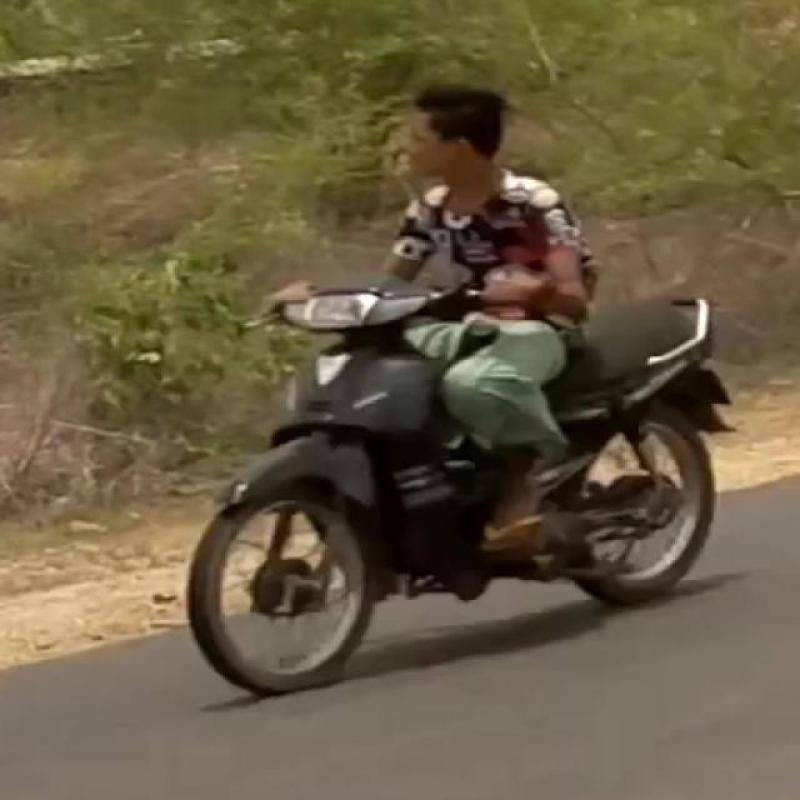nohelmet: (386, 68, 529, 202)
